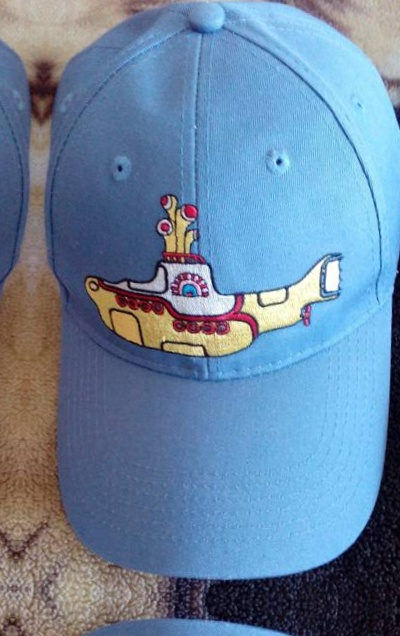Hat: (19, 0, 400, 588), (0, 0, 44, 566), (0, 612, 391, 636), (0, 590, 9, 636), (371, 634, 400, 636)
